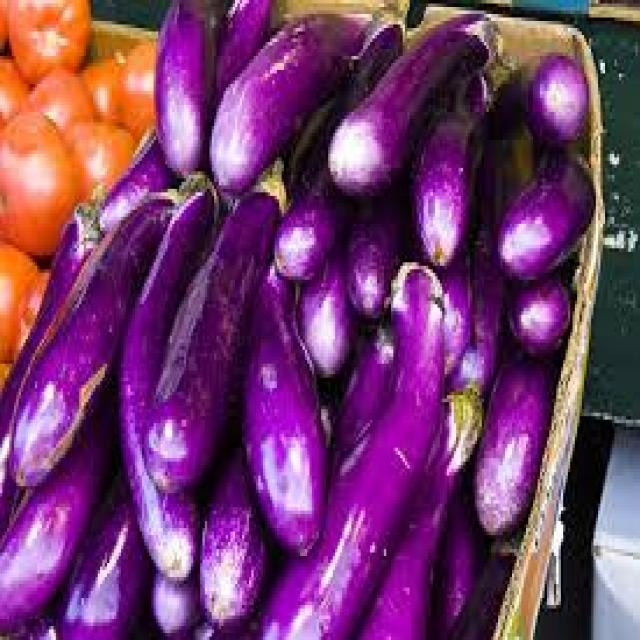eggplant: (141, 152, 292, 498)
